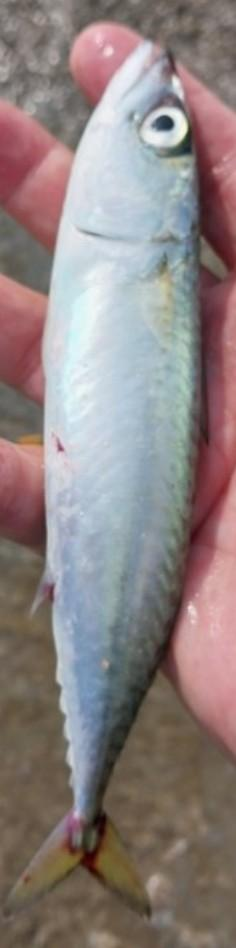fish: (9, 41, 201, 908)
